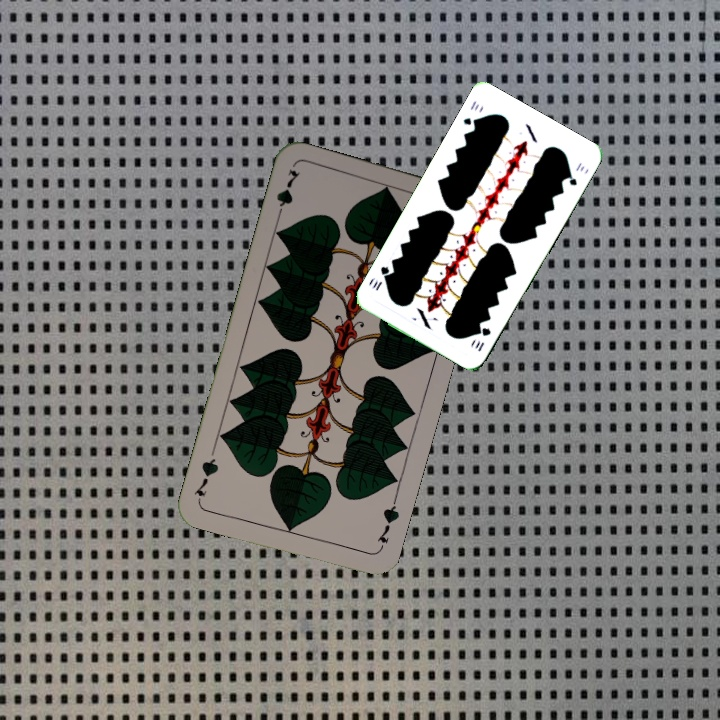G10: (459, 96, 482, 129), (470, 323, 493, 354)
G7: (272, 165, 303, 223), (373, 495, 402, 553)
